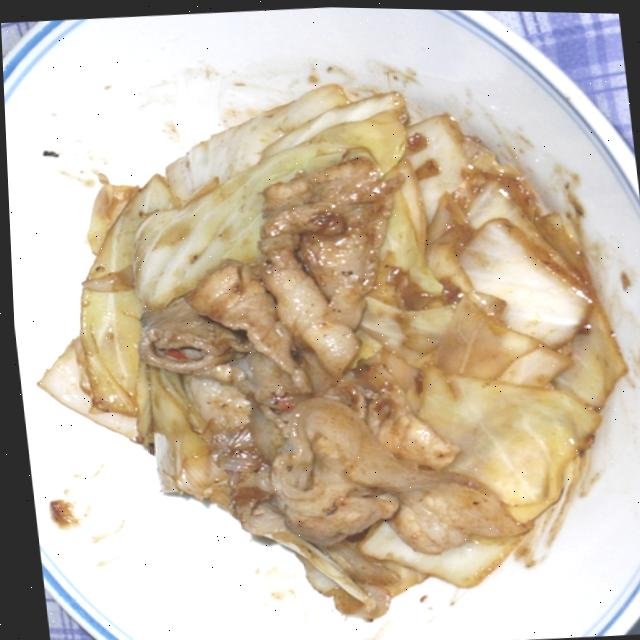猪肉菜式: (0, 11, 640, 640)
